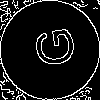G: (25, 25, 77, 71)
